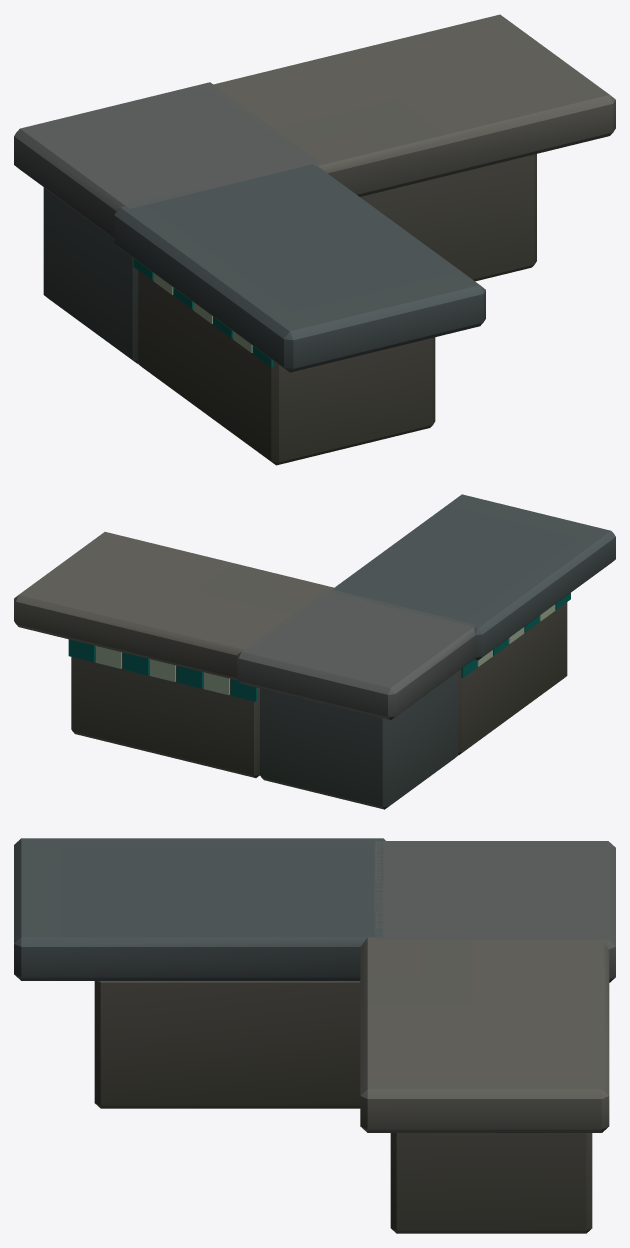
The model's file is pond-edge-corner.glb.
The picture shows the model from 3 angles, top to bottom: view 1: azimuth 30°, elevation 25°; view 2: azimuth 150°, elevation 25°; view 3: azimuth 270°, elevation 25°; orthographic projection. The views are drawn at different scales.
Parts seen in each view (by area): view 1: pond-edge-corner-cap, pond-edge-corner-wall, pond-edge-corner-glaze; view 2: pond-edge-corner-cap, pond-edge-corner-wall, pond-edge-corner-glaze; view 3: pond-edge-corner-cap, pond-edge-corner-wall.
Boxes of the visible parts, <box> form: pond-edge-corner-cap: <box>14,14,615,372</box>; pond-edge-corner-wall: <box>43,154,536,465</box>; pond-edge-corner-glaze: <box>133,258,273,367</box>; pond-edge-corner-cap: <box>14,494,615,720</box>; pond-edge-corner-wall: <box>71,602,567,809</box>; pond-edge-corner-glaze: <box>68,593,570,701</box>; pond-edge-corner-cap: <box>14,838,615,1132</box>; pond-edge-corner-wall: <box>94,981,592,1233</box>.
Size of the model in its own units: 0.905 by 0.292 by 0.895.
